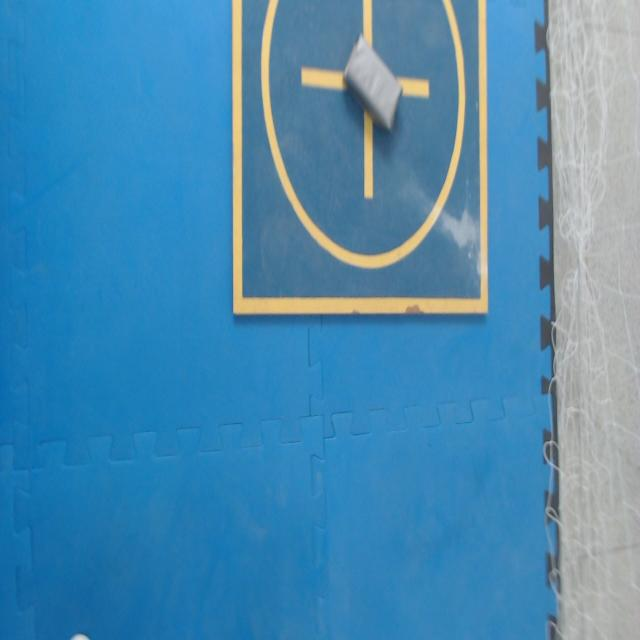esquerda: (344, 34, 402, 130)
